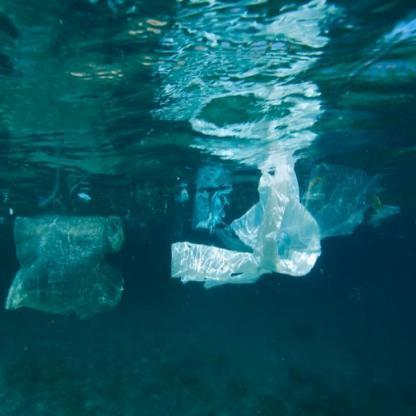Rác: (169, 187, 328, 287), (13, 216, 132, 322), (302, 166, 390, 238)
